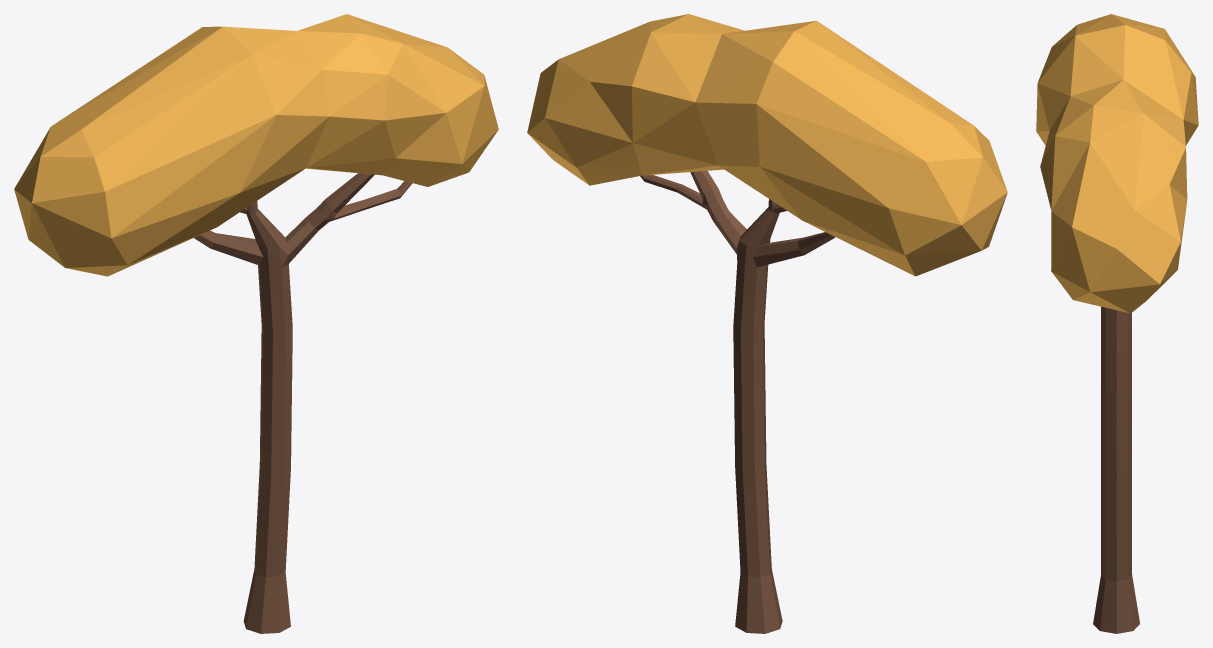
File: tropical_tree_1.fbx
3 views of the same model, side by side, from view 1: azimuth 30°, elevation 25°; view 2: azimuth 150°, elevation 25°; view 3: azimuth 270°, elevation 25° (orthographic). The views are drawn at different scales.
Visible parts, largest first — view 1: tropical_trees_1; view 2: tropical_trees_1; view 3: tropical_trees_1.
Boxes of the visible parts, x1,y1,x2,y2 form: tropical_trees_1: (14, 14, 498, 633); tropical_trees_1: (527, 14, 1007, 633); tropical_trees_1: (1036, 14, 1198, 633).
Size of the model in its own units: 481 by 604 by 153.
